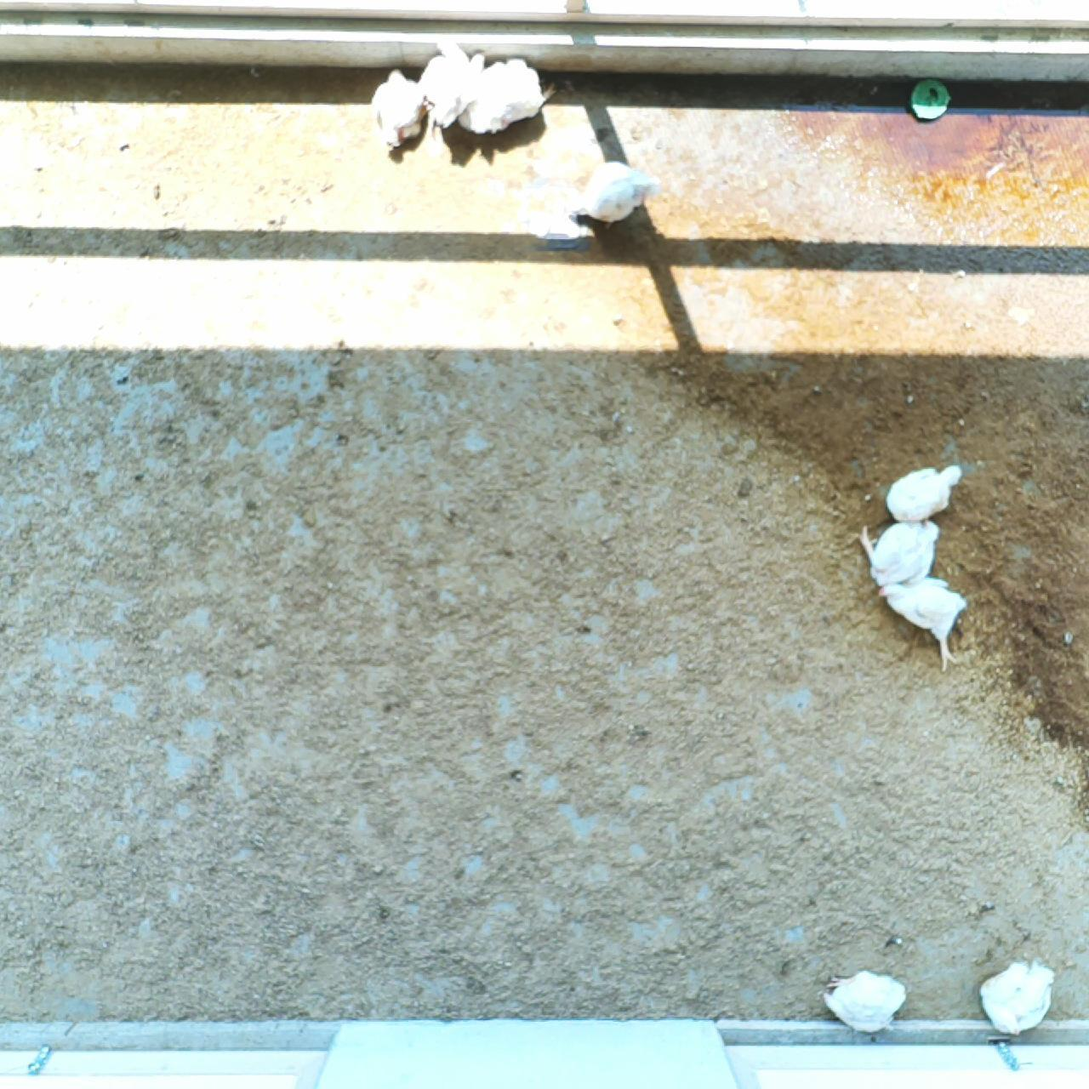chicken: (869, 573, 974, 675), (852, 507, 941, 593), (457, 57, 548, 137), (413, 37, 487, 133), (978, 954, 1059, 1041), (824, 964, 911, 1036), (880, 457, 969, 522), (573, 159, 660, 223), (368, 64, 428, 156)
